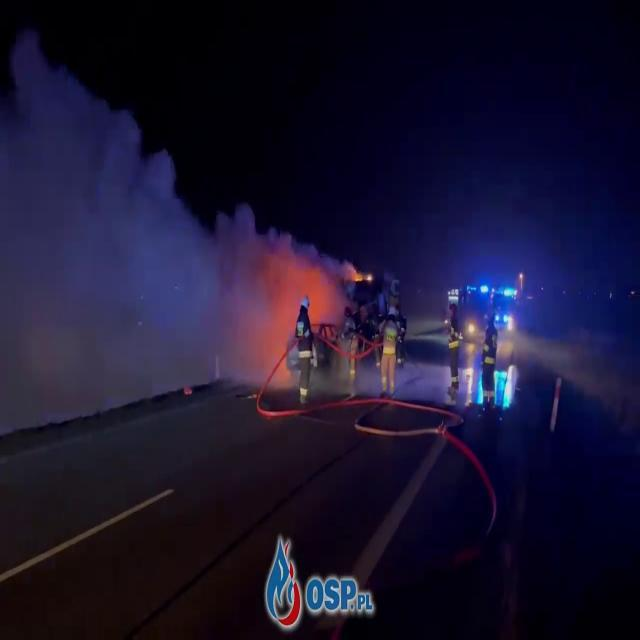Smoke: (0, 62, 202, 415), (201, 189, 336, 388)
